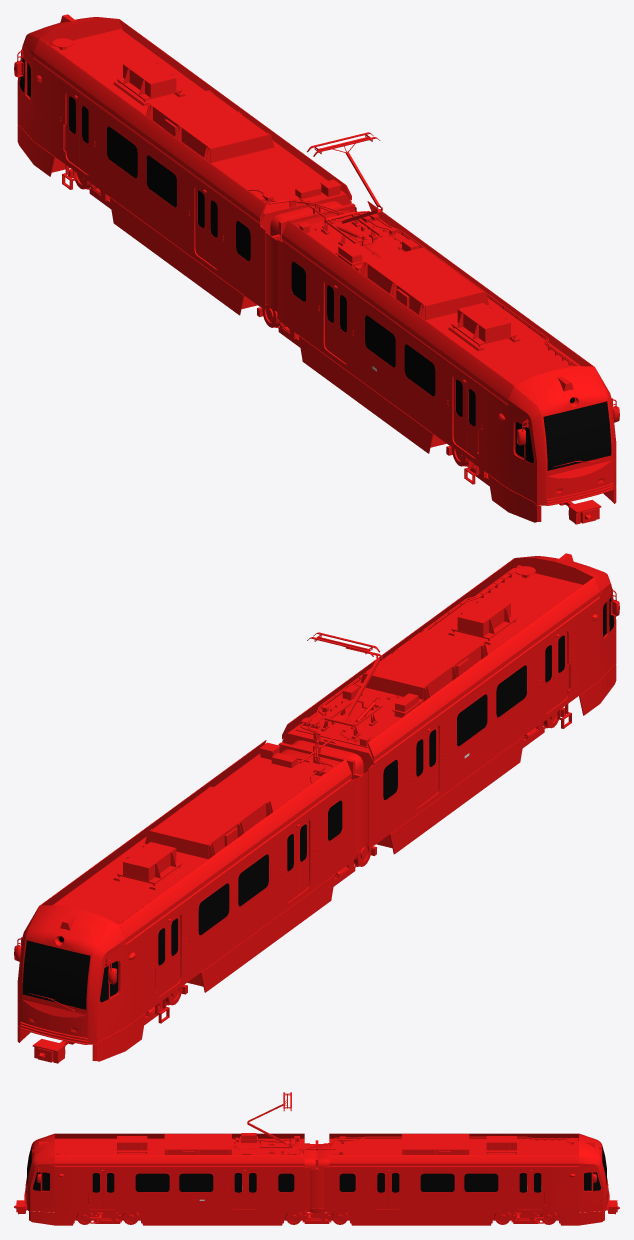
The picture shows the model from 3 angles, top to bottom: view 1: azimuth 30°, elevation 25°; view 2: azimuth 150°, elevation 25°; view 3: azimuth 270°, elevation 25°; orthographic projection. The views are drawn at different scales.
Visible parts, largest first — view 1: Body_1, Body_2, gl_2, gl_1, Center_Section, dl_6, dl_8, dr_7, dr_5; view 2: Body_2, Body_1, gl_1, gl_2, Center_Section, dr_5, dr_7, dl_6, dl_8; view 3: Body_1, Body_2, gl_2, gl_1, dr_2, dl_4, dr_3, dl_1, Center_Section, Bogie_1, Bogie_2, Bogie_3 (+4 smaller).
Boxes of the visible parts, box(x1,y1,x2,y2) form: Body_1: box(277, 132, 619, 524); Body_2: box(14, 14, 356, 315); gl_2: box(291, 261, 611, 470); gl_1: box(19, 58, 250, 260); Center_Section: box(265, 198, 357, 311); dl_6: box(325, 281, 465, 450); dl_8: box(66, 92, 207, 261); dr_7: box(79, 100, 218, 269); dr_5: box(337, 289, 477, 457); Body_2: box(14, 740, 356, 1063); Body_1: box(282, 553, 619, 854); gl_1: box(22, 800, 342, 1009); gl_2: box(383, 597, 614, 799); Center_Section: box(278, 737, 368, 850); dr_5: box(426, 631, 567, 800); dr_7: box(168, 820, 308, 989); dl_6: box(415, 639, 554, 808); dl_8: box(156, 828, 296, 996); Body_1: box(14, 1092, 316, 1225); Body_2: box(317, 1133, 619, 1225); gl_2: box(27, 1146, 294, 1191); gl_1: box(339, 1146, 606, 1191); dr_2: box(388, 1171, 543, 1209); dl_4: box(90, 1171, 245, 1209); dr_3: box(103, 1171, 258, 1209); dl_1: box(375, 1171, 530, 1209); Center_Section: box(298, 1140, 335, 1209); Bogie_1: box(283, 1208, 350, 1223); Bogie_2: box(74, 1212, 141, 1223); Bogie_3: box(492, 1212, 559, 1223).
Size of the model in its own units: 2922 by 5927 by 27515.
